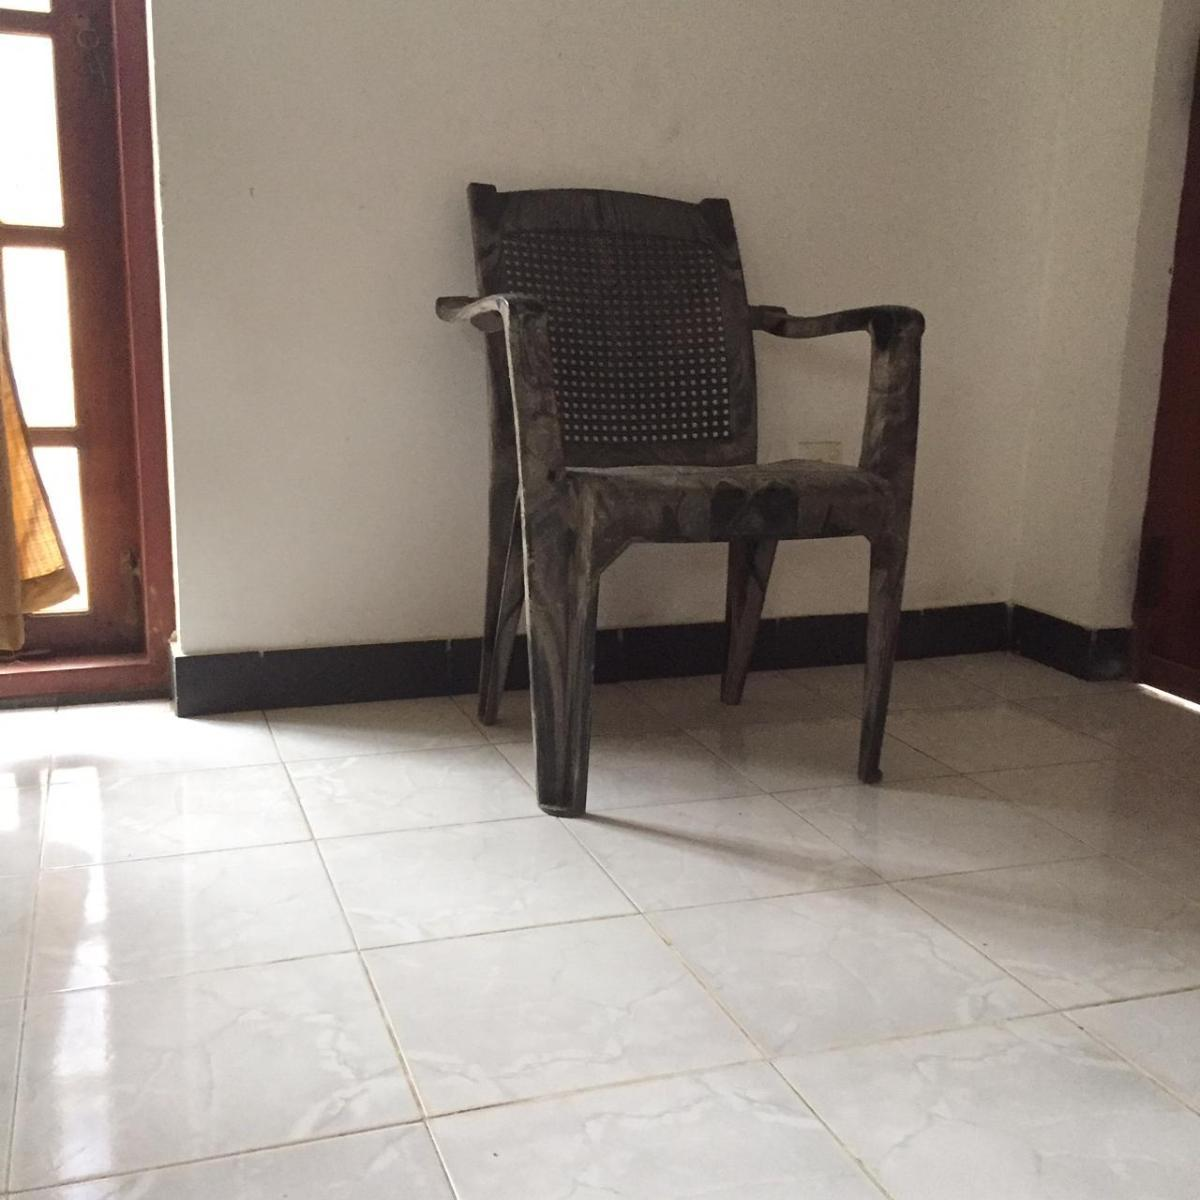Chair: (433, 180, 927, 820)
